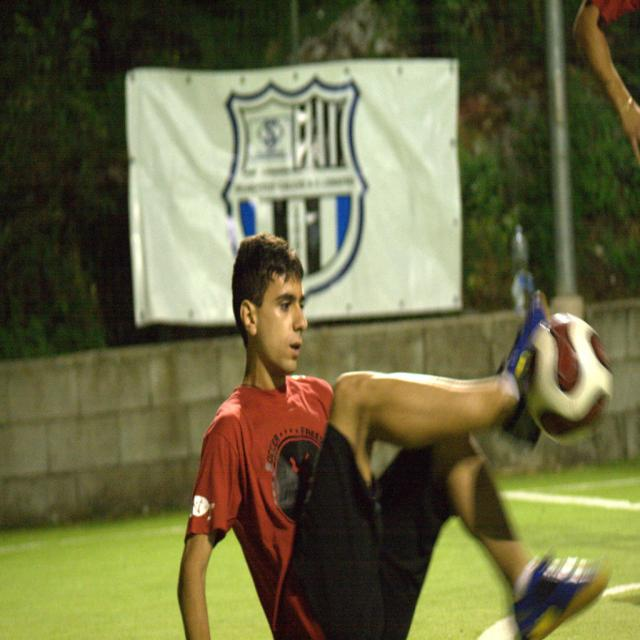Ball: (522, 314, 612, 445)
